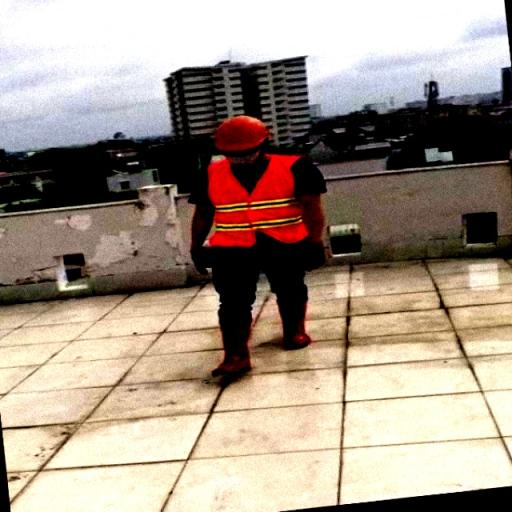Person: (167, 114, 333, 400)
boots: (207, 327, 254, 389), (273, 290, 314, 352)
gloves: (302, 240, 332, 270), (185, 244, 213, 274)
goggles: (210, 148, 272, 162)
helmet: (207, 112, 272, 152)
vest: (204, 152, 315, 246)
